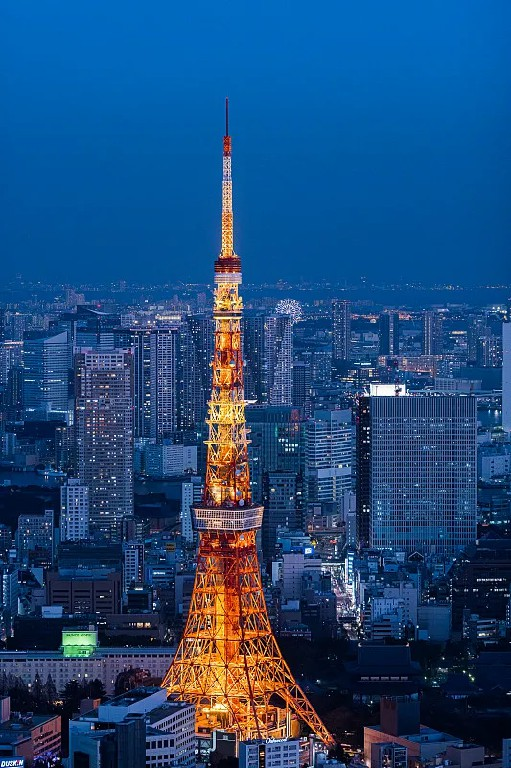Tokyo: (157, 92, 334, 751)
